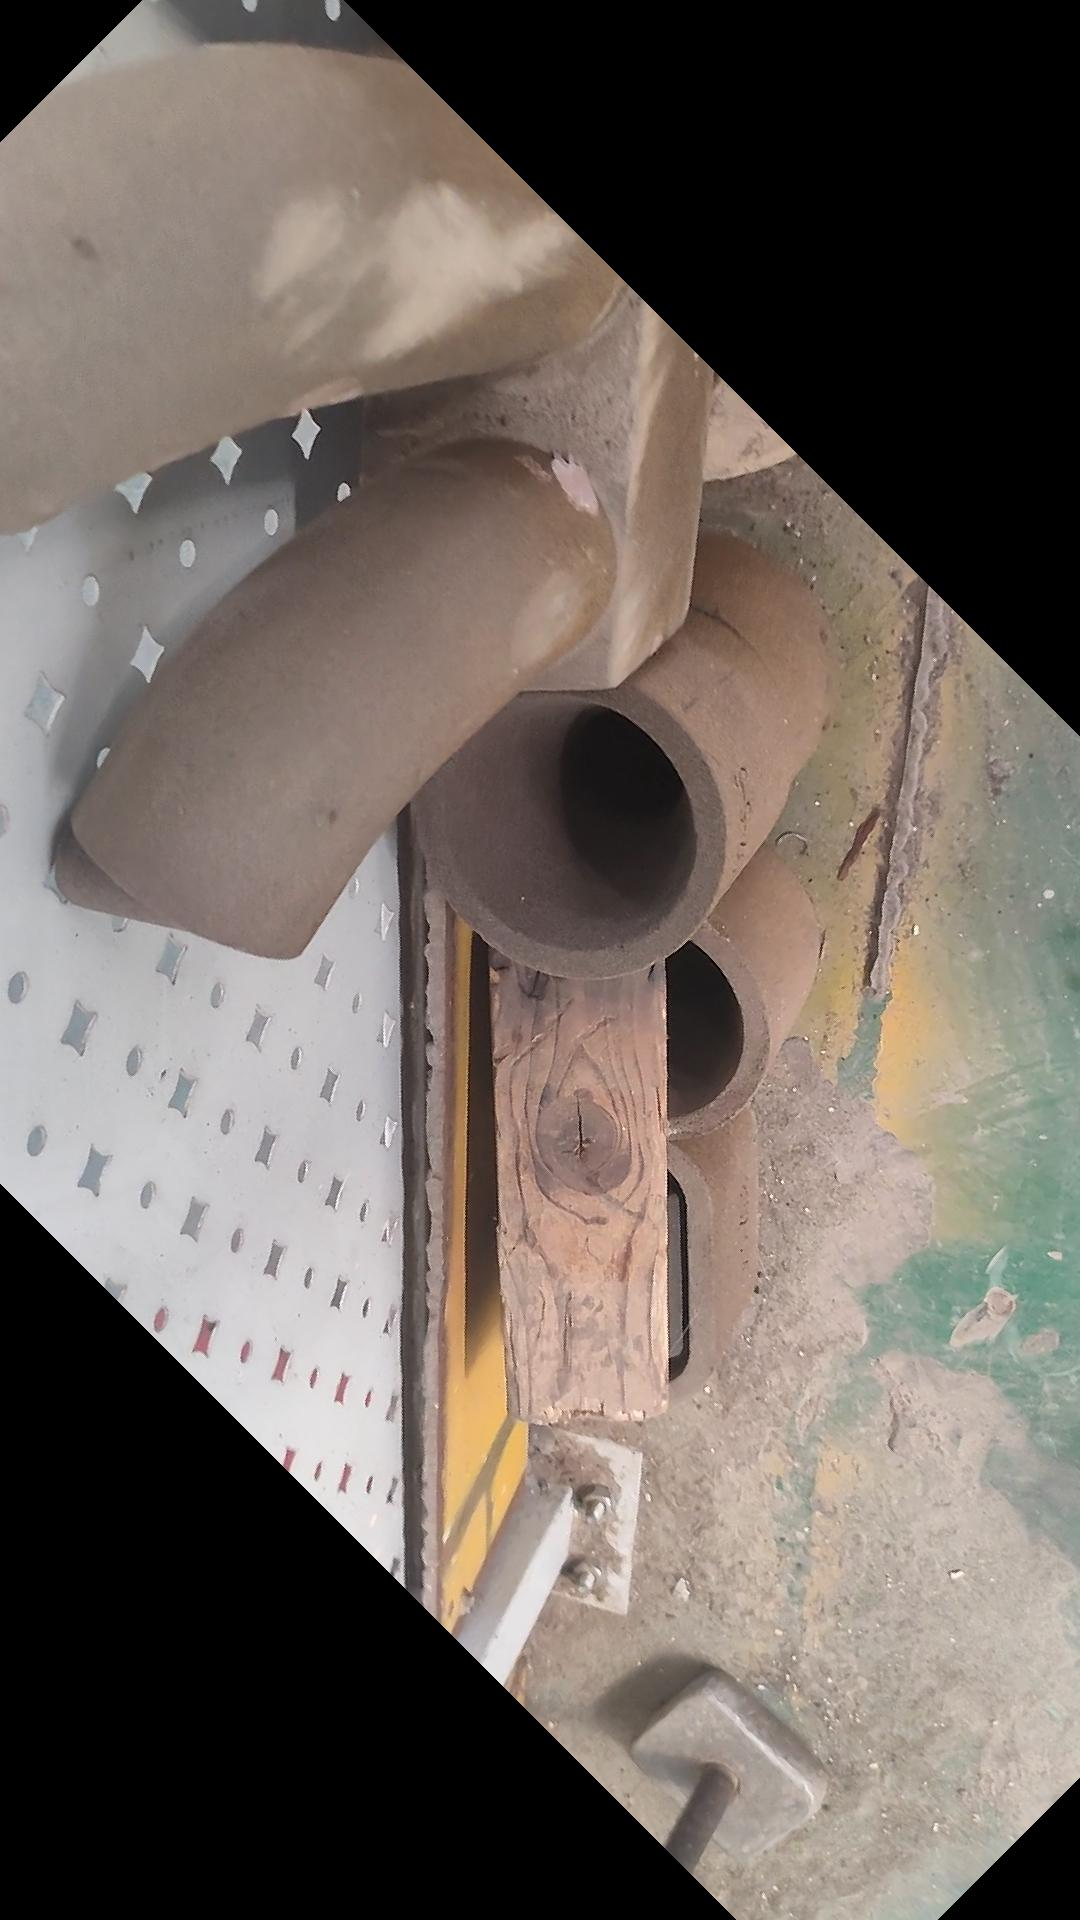pouring hole: (439, 696, 698, 949), (542, 934, 746, 1120)
